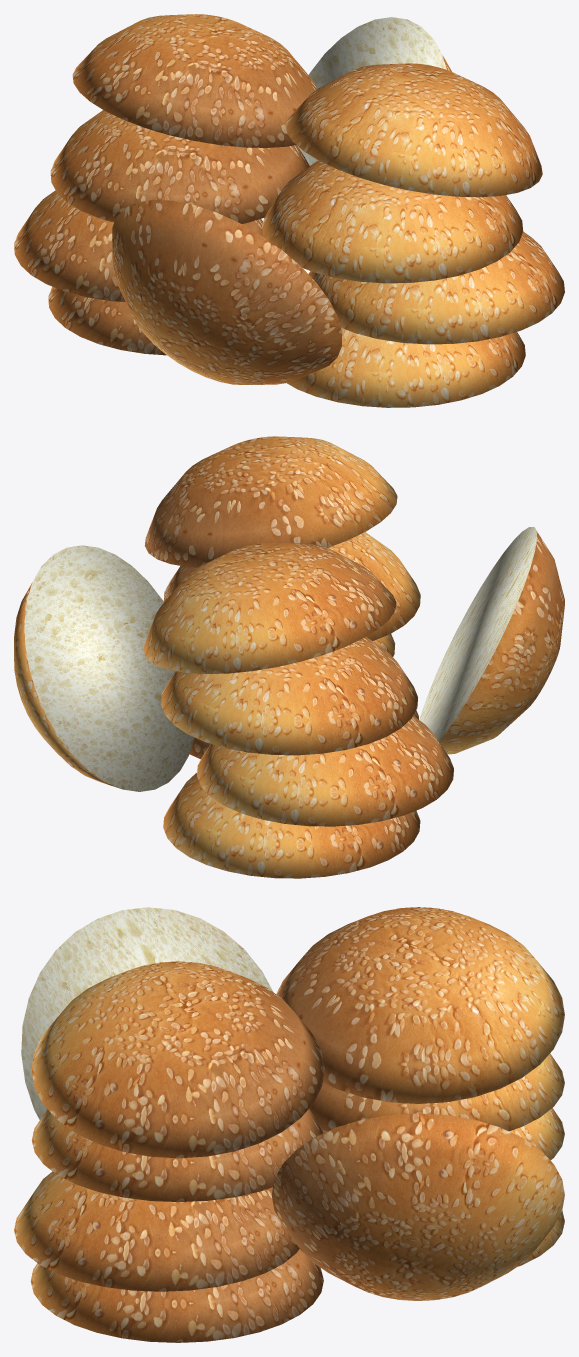
The model's file is top bun on the table.fbx.
3 views of the same model, one above another, from view 1: azimuth 30°, elevation 25°; view 2: azimuth 150°, elevation 25°; view 3: azimuth 270°, elevation 25° (orthographic). The views are drawn at different scales.
Visible parts, largest first — view 1: Circle.006; view 2: Circle.006; view 3: Circle.006.
Part boxes in pixels (x1,y1,x2,y2): Circle.006: [14, 14, 564, 407]; Circle.006: [14, 436, 564, 878]; Circle.006: [14, 907, 564, 1342].
Size of the model in its own units: 32.93 by 20.65 by 33.59.
2 materials, 2 textured.
